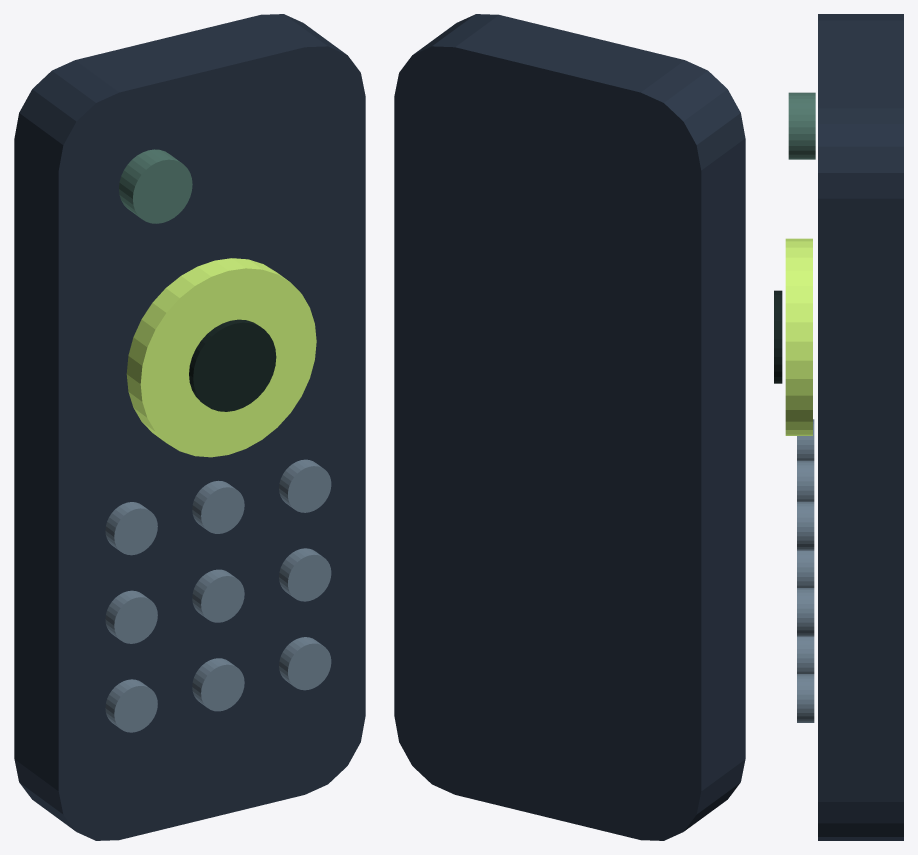
File: remote.glb
3 renders of one model, left to right at view 1: azimuth 30°, elevation 25°; view 2: azimuth 150°, elevation 25°; view 3: azimuth 270°, elevation 25°, orthographic. The views are drawn at different scales.
Parts seen in each view (by area): view 1: housing, direction ring, ok button, power key, key 1-2, key 0-2, key 1-1, key 0-1, key 2-1, key 0-0, key 2-0, key 1-0 (+1 smaller); view 2: housing; view 3: housing, direction ring, power key, key 2-0, key 2-1, key 2-2, ok button, key 1-0, key 1-1, key 1-2, key 0-0.
Boxes of the visible parts, <box> form: housing: <box>14,14,365,840</box>; direction ring: <box>126,258,316,457</box>; ok button: <box>189,319,276,411</box>; power key: <box>119,149,192,223</box>; key 1-2: <box>192,658,244,711</box>; key 0-2: <box>105,679,157,732</box>; key 1-1: <box>192,569,244,622</box>; key 0-1: <box>105,590,157,643</box>; key 2-1: <box>279,548,331,601</box>; key 0-0: <box>105,502,157,555</box>; key 2-0: <box>279,459,331,512</box>; key 1-0: <box>192,480,244,533</box>; housing: <box>394,14,745,840</box>; housing: <box>818,14,903,840</box>; direction ring: <box>785,238,812,435</box>; power key: <box>788,92,815,159</box>; key 2-0: <box>797,501,814,550</box>; key 2-1: <box>797,588,814,636</box>; key 2-2: <box>797,674,814,722</box>; ok button: <box>774,290,782,383</box>; key 1-0: <box>797,460,814,501</box>; key 1-1: <box>797,550,814,587</box>; key 1-2: <box>797,636,814,673</box>; key 0-0: <box>797,419,814,460</box>.
Size of the model in its own units: 0.76 by 1.77 by 0.287.
